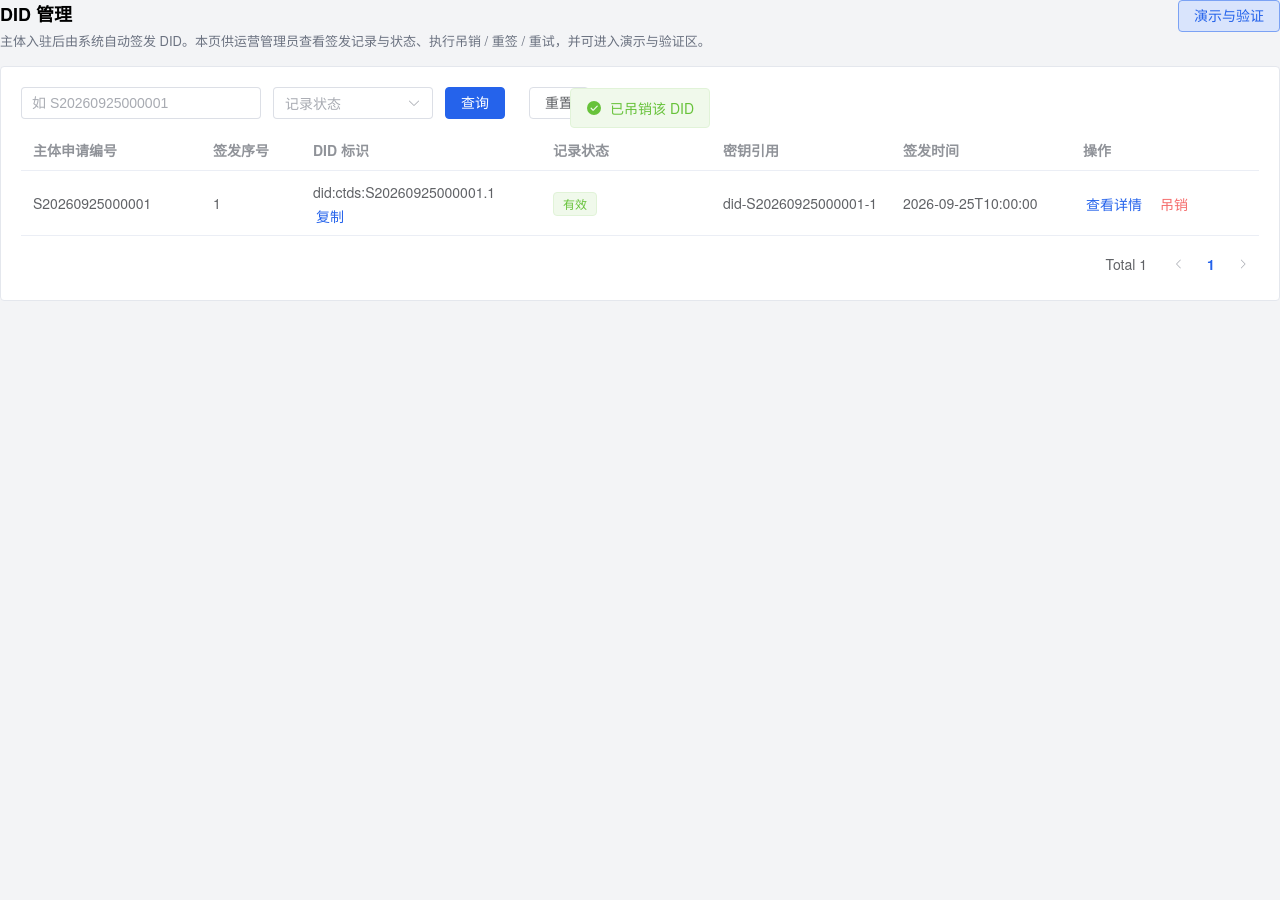
Scenario: DID 管理页 · 吊销两段式（WBS-3.1.11 T11/T12，规格行为 4） › 后端兜底文案如实透传（1005C0002 / 1005C0003 不吞不改写）
Click the button "吊销". click: (1174, 205)
box: [1157, 195, 1191, 215]
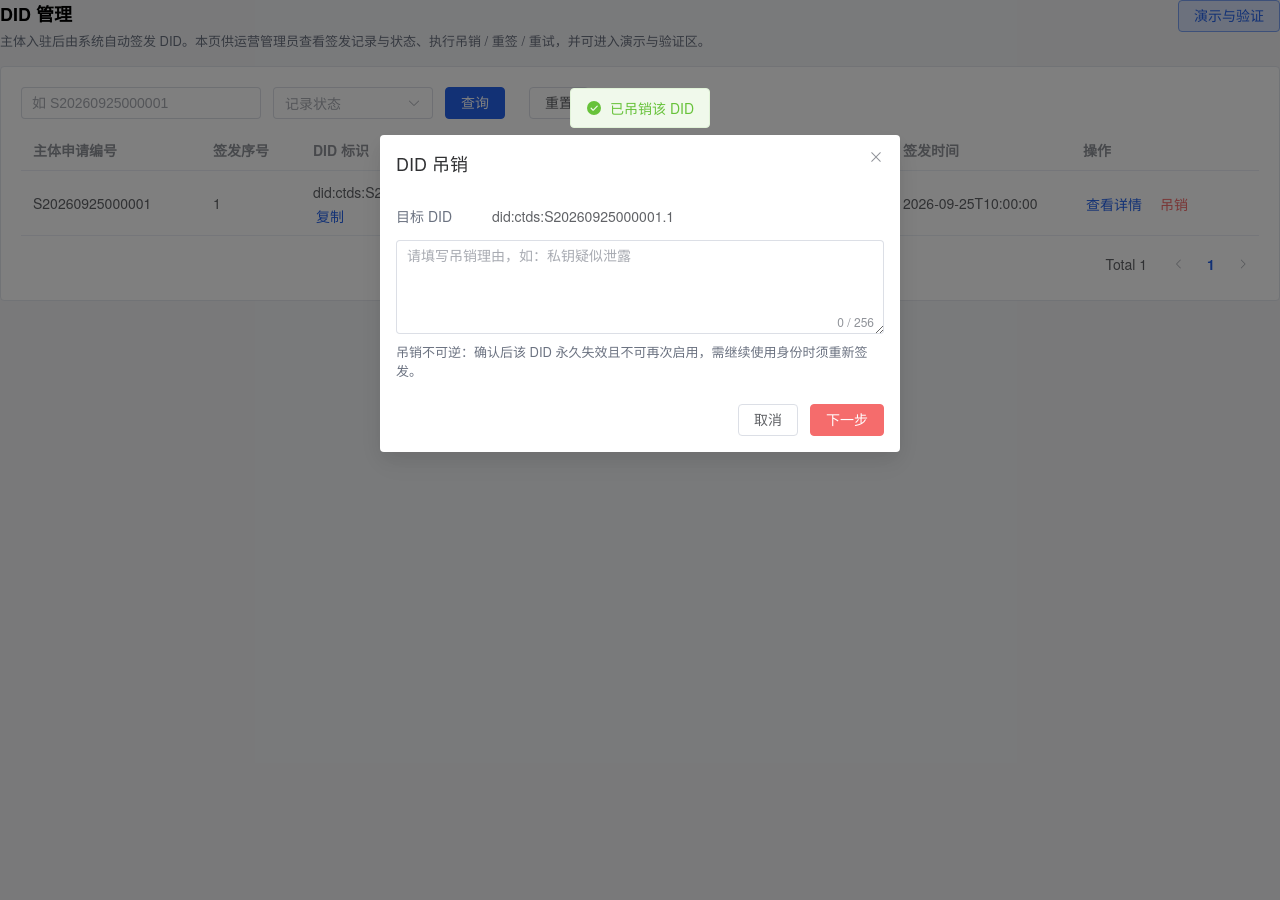
Type "重试吊销" into the text box with placeholder "请填写吊销理由，如：私钥疑似泄露". click: (640, 287)
box: [396, 240, 884, 334]
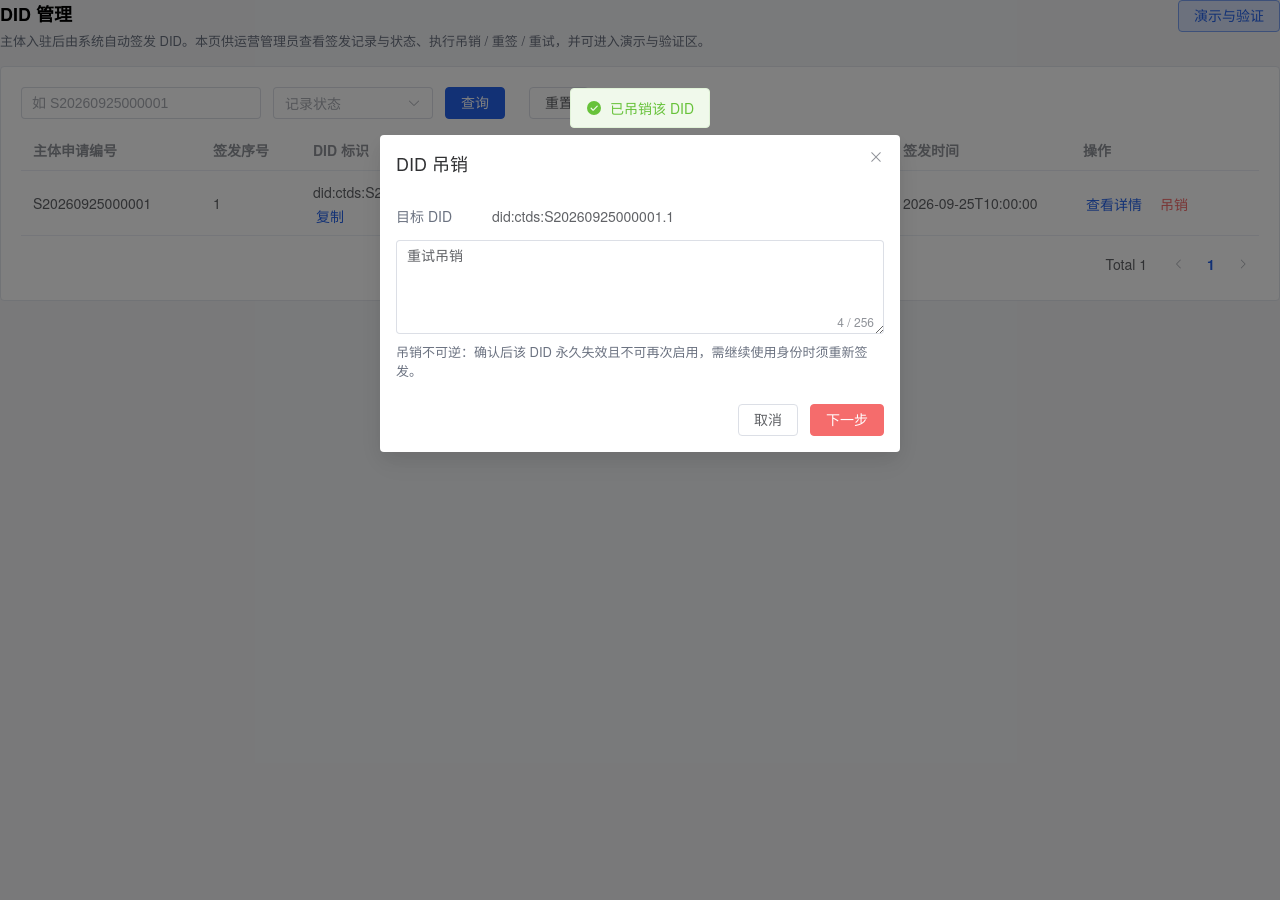
Click the button with class "revoke-next-btn". click: (847, 420)
box: [810, 404, 884, 436]
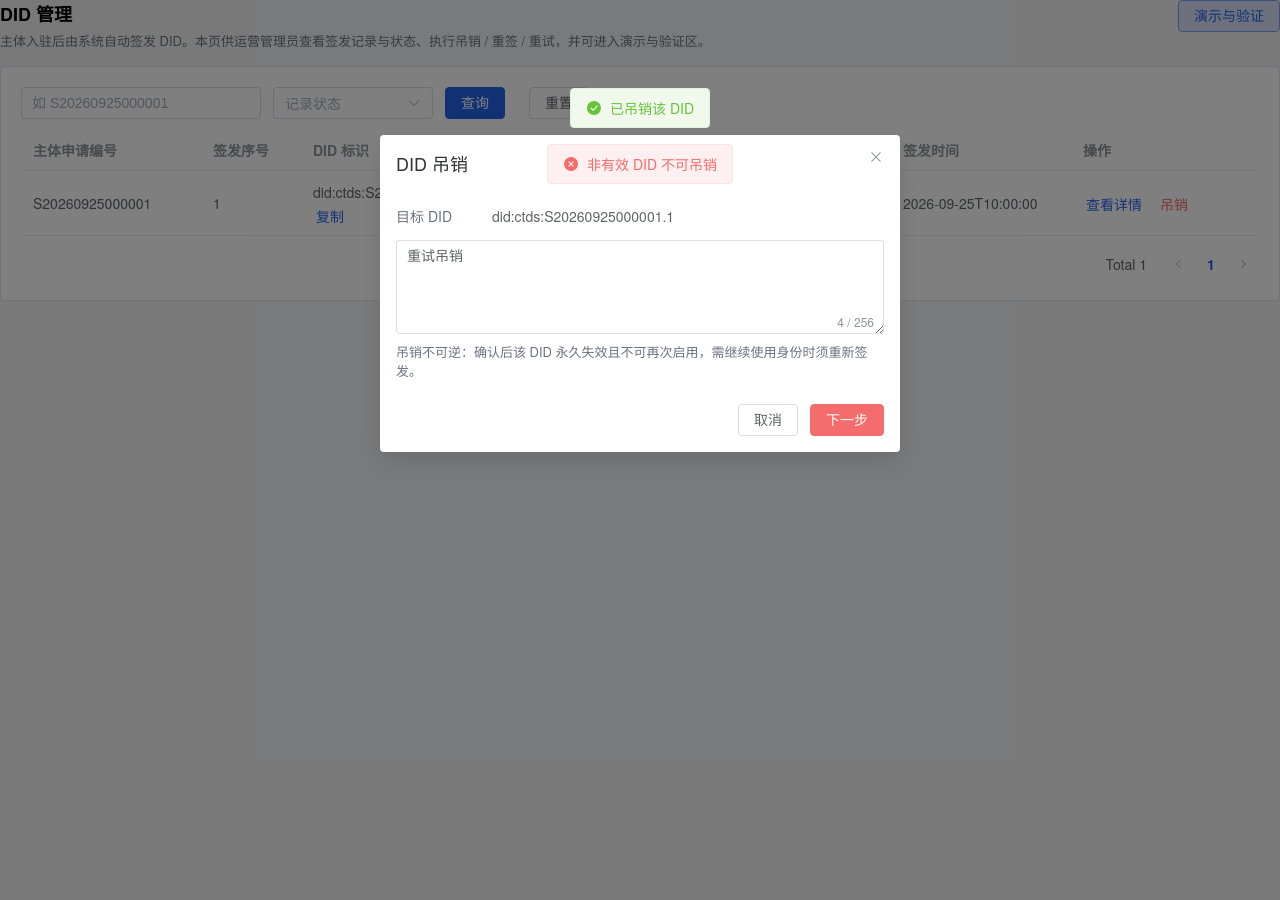
Result: the text "非有效 DID 不可吊销" is shown at [587, 157, 717, 171]
